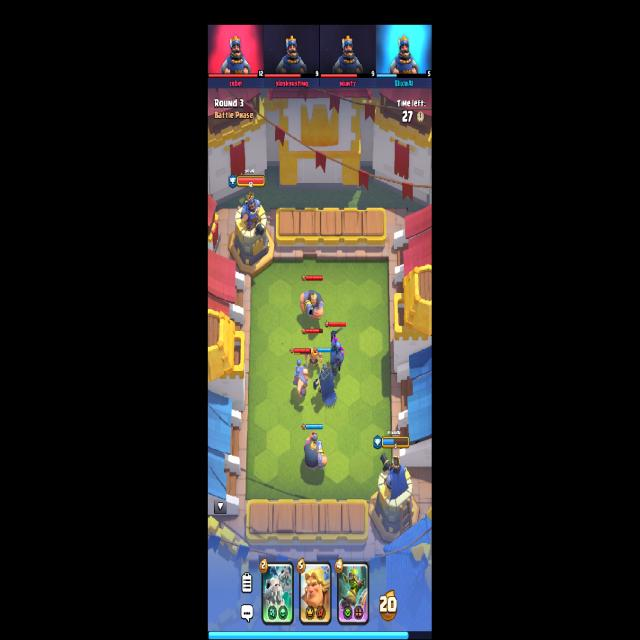barbarian: (305, 345, 323, 369)
card_goblin_machine: (337, 560, 369, 626)
card_golden_knight: (299, 560, 332, 624)
card_skeleton_dragon: (262, 560, 294, 625)
electro_giant: (294, 360, 310, 398)
pekka: (329, 326, 345, 374)
royal_giant: (303, 432, 327, 472), (298, 289, 324, 321)
skeleton_king: (314, 364, 342, 407)
